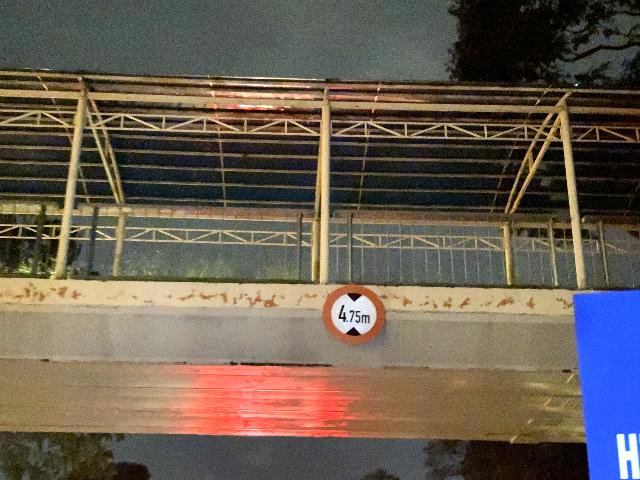han-che-chieu-cao: (323, 282, 386, 344)
